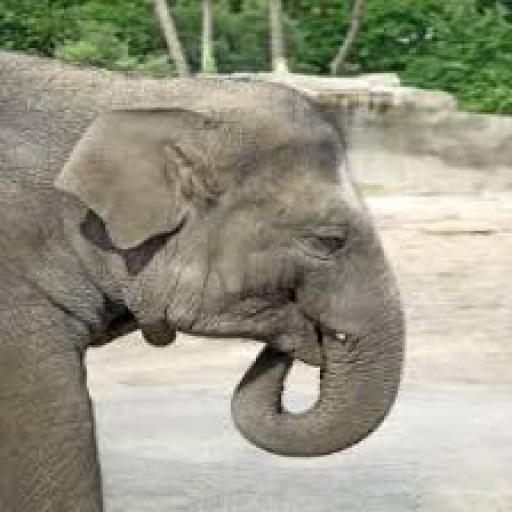Elephant: (0, 41, 409, 512)
